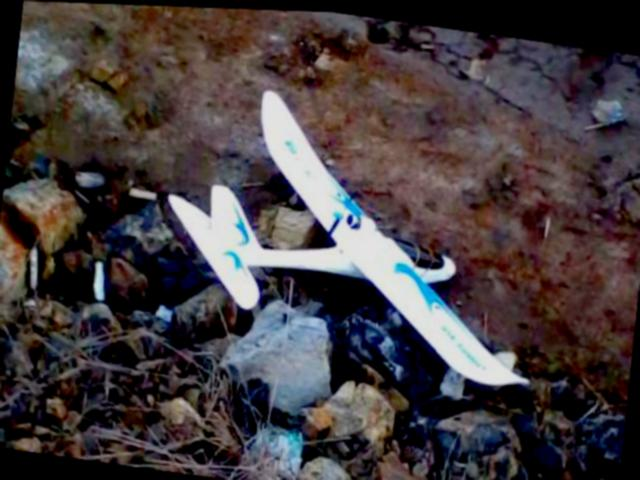uav: (145, 67, 562, 395)
